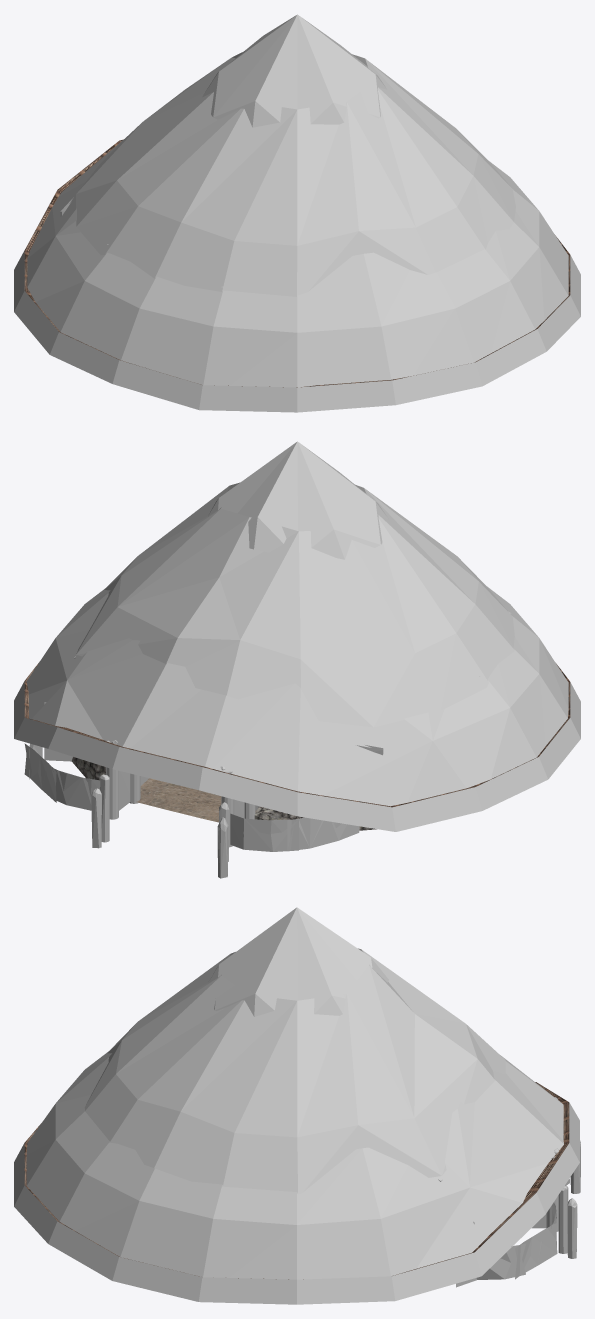
The model's file is RoundHut_2_LOD2.fbx.
3 renders of one model, top to bottom at view 1: azimuth 30°, elevation 25°; view 2: azimuth 150°, elevation 25°; view 3: azimuth 270°, elevation 25°, orthographic.
Visible parts, largest first — view 1: Alpha, Roof; view 2: Alpha, Wood, Ground, Roof, Stone; view 3: Alpha, Wood, Roof.
Boxes of the visible parts, x1,y1,x2,y2 form: Alpha: [14, 14, 580, 412]; Roof: [24, 139, 570, 387]; Alpha: [14, 441, 580, 851]; Wood: [44, 611, 511, 878]; Ground: [136, 778, 221, 822]; Roof: [24, 661, 570, 807]; Stone: [71, 757, 376, 830]; Alpha: [14, 907, 579, 1304]; Wood: [438, 1097, 580, 1258]; Roof: [24, 1082, 569, 1279].
Bounding box in the file's own units: 2419 × 2386 × 1483.
